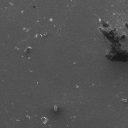corrosion: (98, 17, 128, 61), (40, 117, 49, 125), (23, 47, 33, 54), (121, 97, 128, 103), (53, 105, 58, 112), (35, 34, 42, 39), (22, 27, 29, 32), (75, 84, 80, 89), (26, 115, 31, 120), (72, 61, 77, 66), (49, 18, 54, 22), (20, 9, 24, 14)
